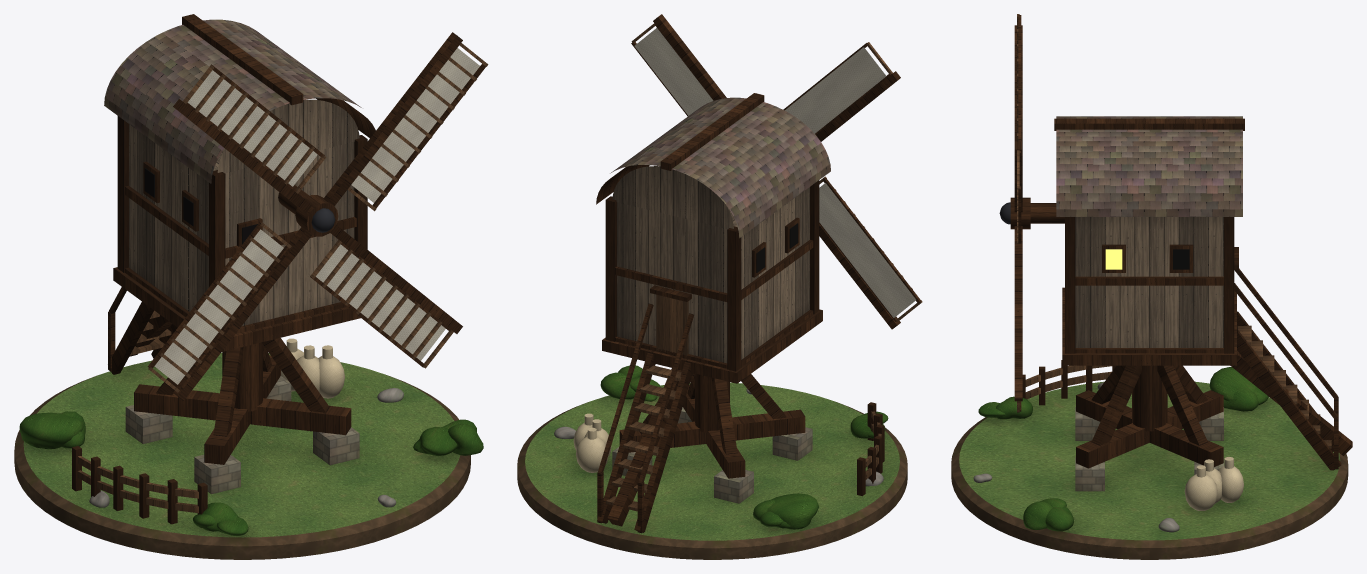
File: wiatrak.glb
The picture shows the model from 3 angles, left to right: view 1: azimuth 30°, elevation 25°; view 2: azimuth 150°, elevation 25°; view 3: azimuth 270°, elevation 25°; orthographic projection. The views are drawn at different scales.
Visible parts, largest first — view 1: wiatrak, smigla; view 2: wiatrak, smigla; view 3: wiatrak, smigla.
Part boxes in pixels (left/top/right/bottom): wiatrak: left=14, top=14, right=483, bottom=559; smigla: left=147, top=32, right=488, bottom=400; wiatrak: left=517, top=93, right=907, bottom=559; smigla: left=631, top=14, right=922, bottom=329; wiatrak: left=951, top=116, right=1352, bottom=559; smigla: left=999, top=14, right=1030, bottom=412.
Size of the model in its own units: 1 by 1.16 by 1.01.
Materials: 14 (12 with a texture image).
